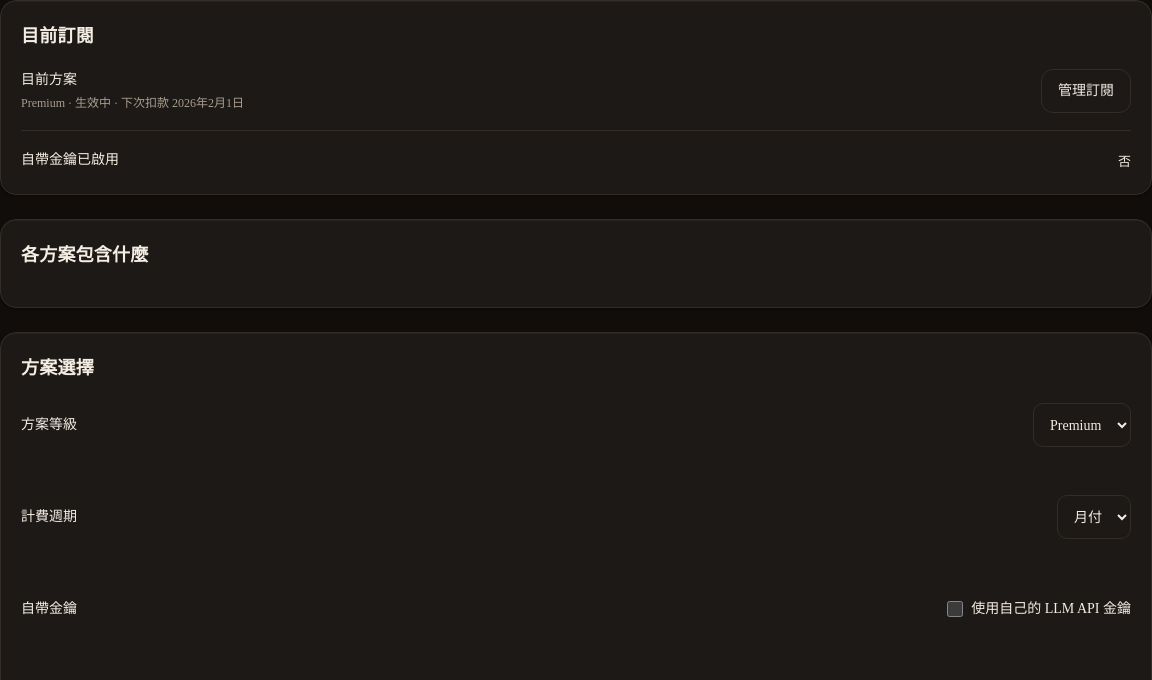
Test: BillingPanel actions › surfaces a change-plan error code as its message
Select "Pro" in the dropdown named "方案等級" at (1082, 425), box [1033,403,1131,447]
(page scrolled)
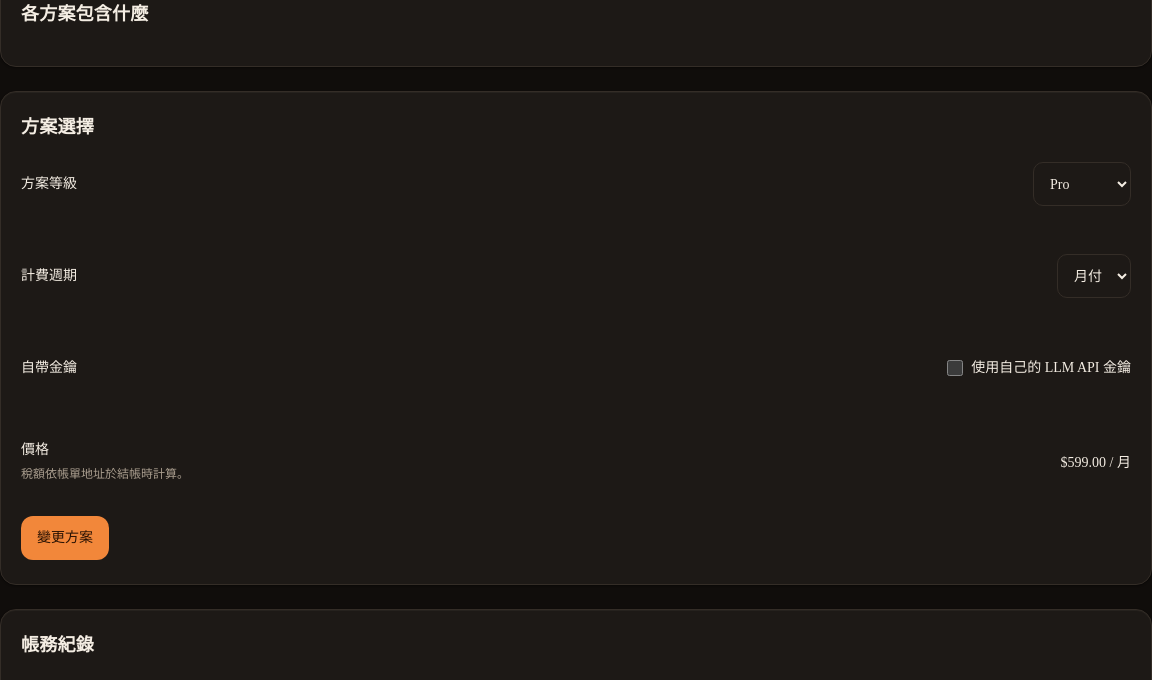
Click the button "變更方案" at (65, 538), box [21,516,109,560]
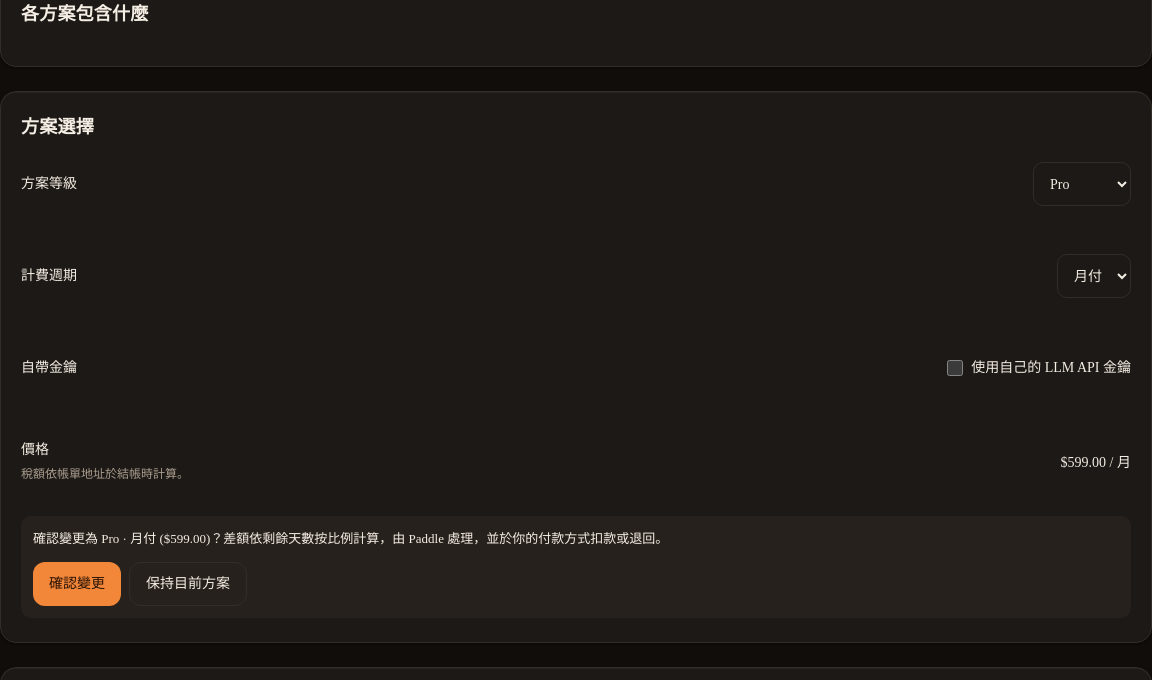
Click the button "確認變更" at (77, 584), box [33,562,121,606]
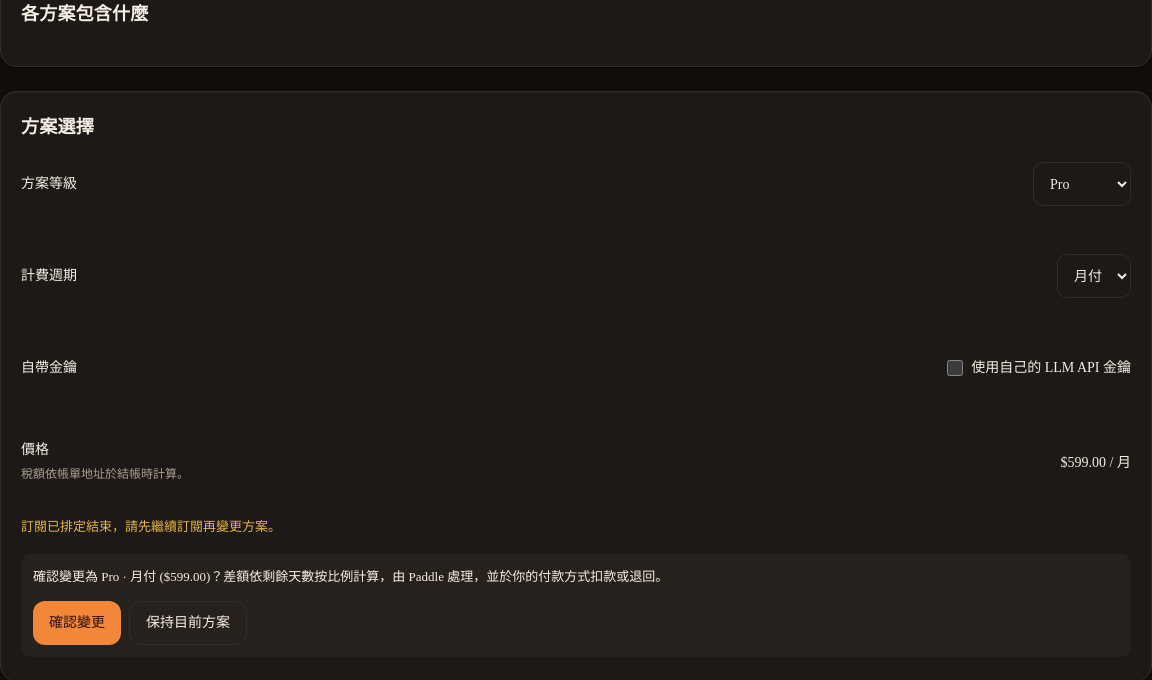
Result: the message reads "訂閱已排定結束，請先繼續訂閱再變更方案。" at [21,519,281,534]
